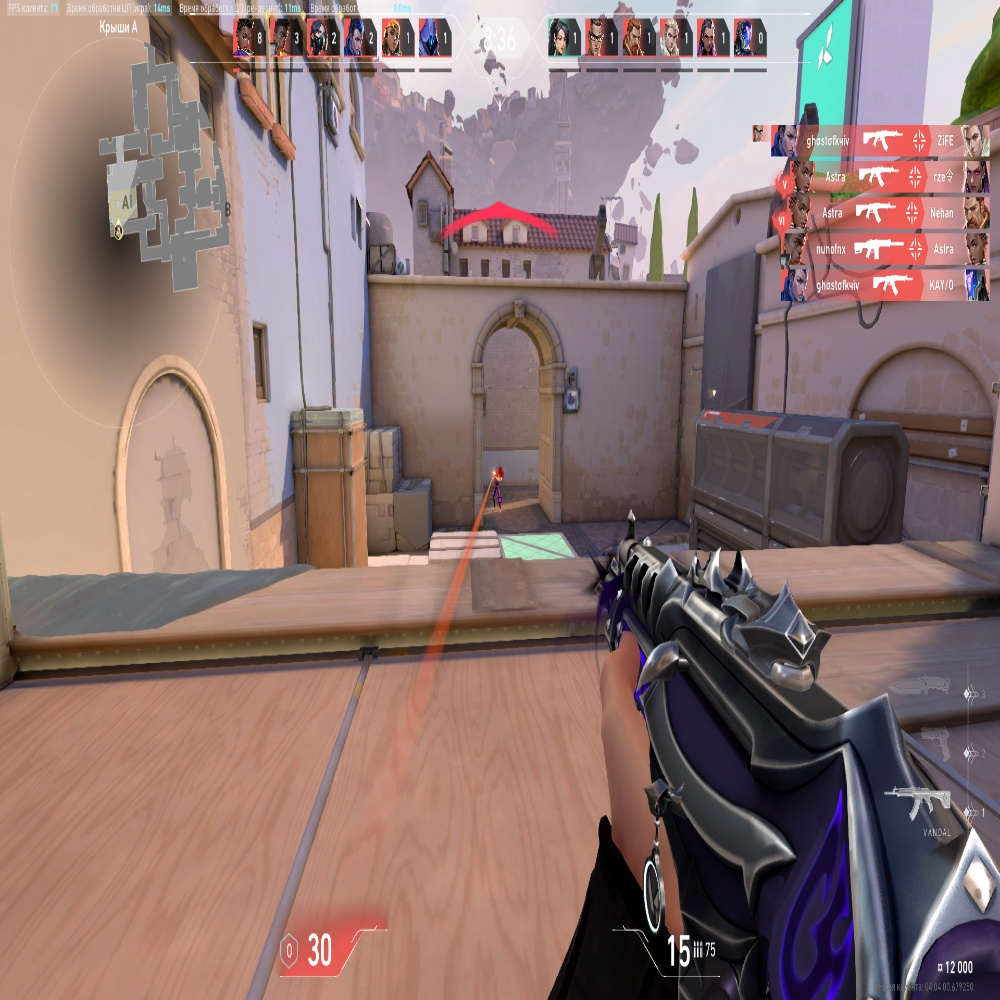body: (493, 479, 500, 491)
head: (495, 470, 499, 477)
